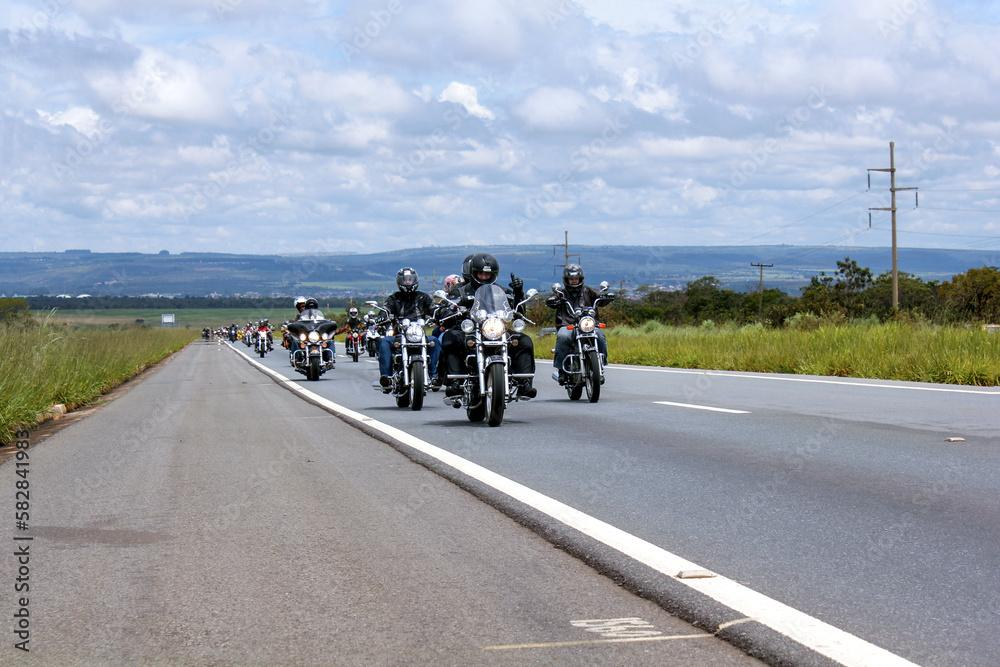helmet: (469, 252, 500, 293), (396, 266, 420, 297), (562, 263, 585, 294), (444, 273, 469, 296), (349, 306, 359, 320), (368, 310, 376, 320)
